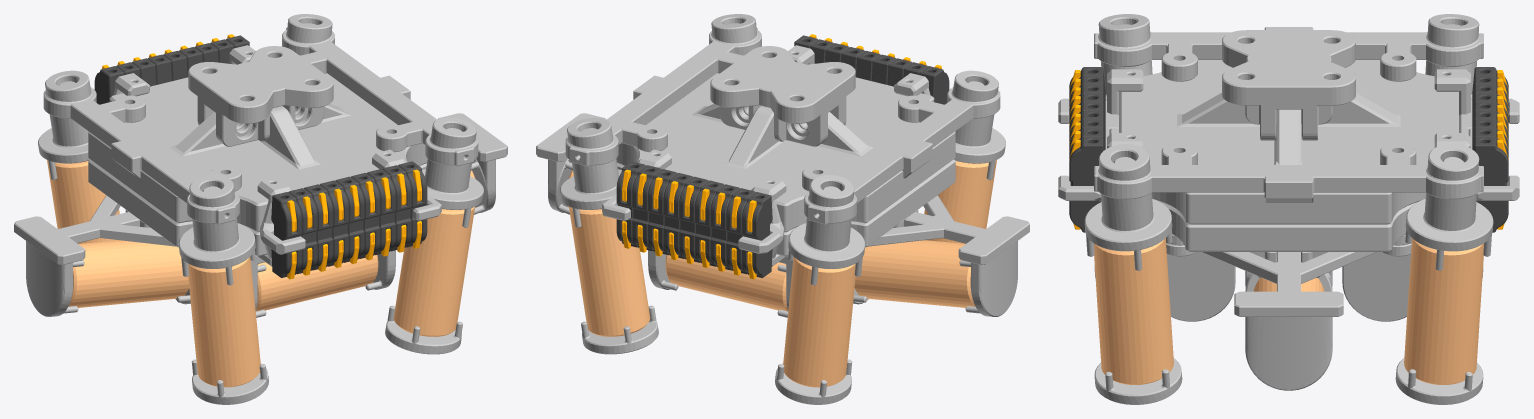
File: HybridSystem.dae
The picture shows the model from 3 angles, left to right: view 1: azimuth 30°, elevation 25°; view 2: azimuth 150°, elevation 25°; view 3: azimuth 270°, elevation 25°; orthographic projection. The views are drawn at different scales.
Visible parts, largest first — view 1: Total_Structure, Coil, connector_1, connector_2; view 2: Total_Structure, Coil, connector_1, connector_2; view 3: Total_Structure, Coil, connector_1, connector_2.
Boxes of the visible parts, x1,y1,x2,y2 form: Total_Structure: (14, 14, 507, 404); Coil: (47, 160, 475, 387); connector_1: (94, 35, 427, 277); connector_2: (102, 34, 421, 279); Total_Structure: (536, 14, 1029, 404); Coil: (568, 160, 996, 387); connector_1: (616, 35, 949, 277); connector_2: (622, 34, 941, 279); Total_Structure: (1058, 14, 1519, 404); Coil: (1094, 238, 1483, 384); connector_1: (1069, 67, 1508, 232); connector_2: (1069, 70, 1508, 229).
Size of the model in its own units: 244 by 190 by 126.
